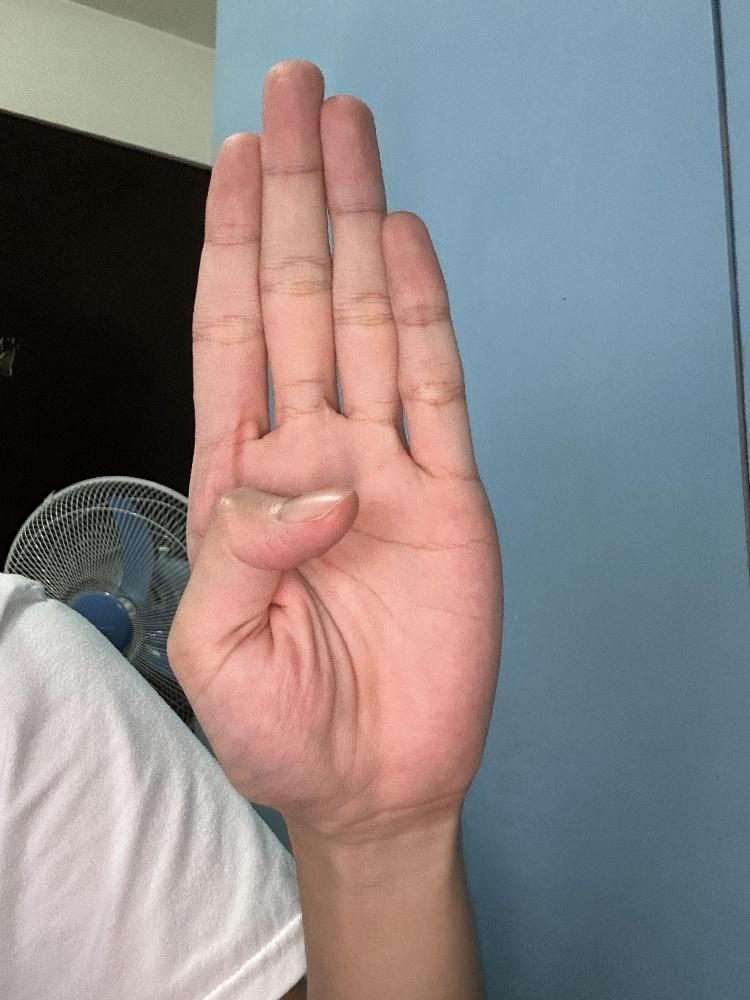b: (161, 51, 510, 839)
